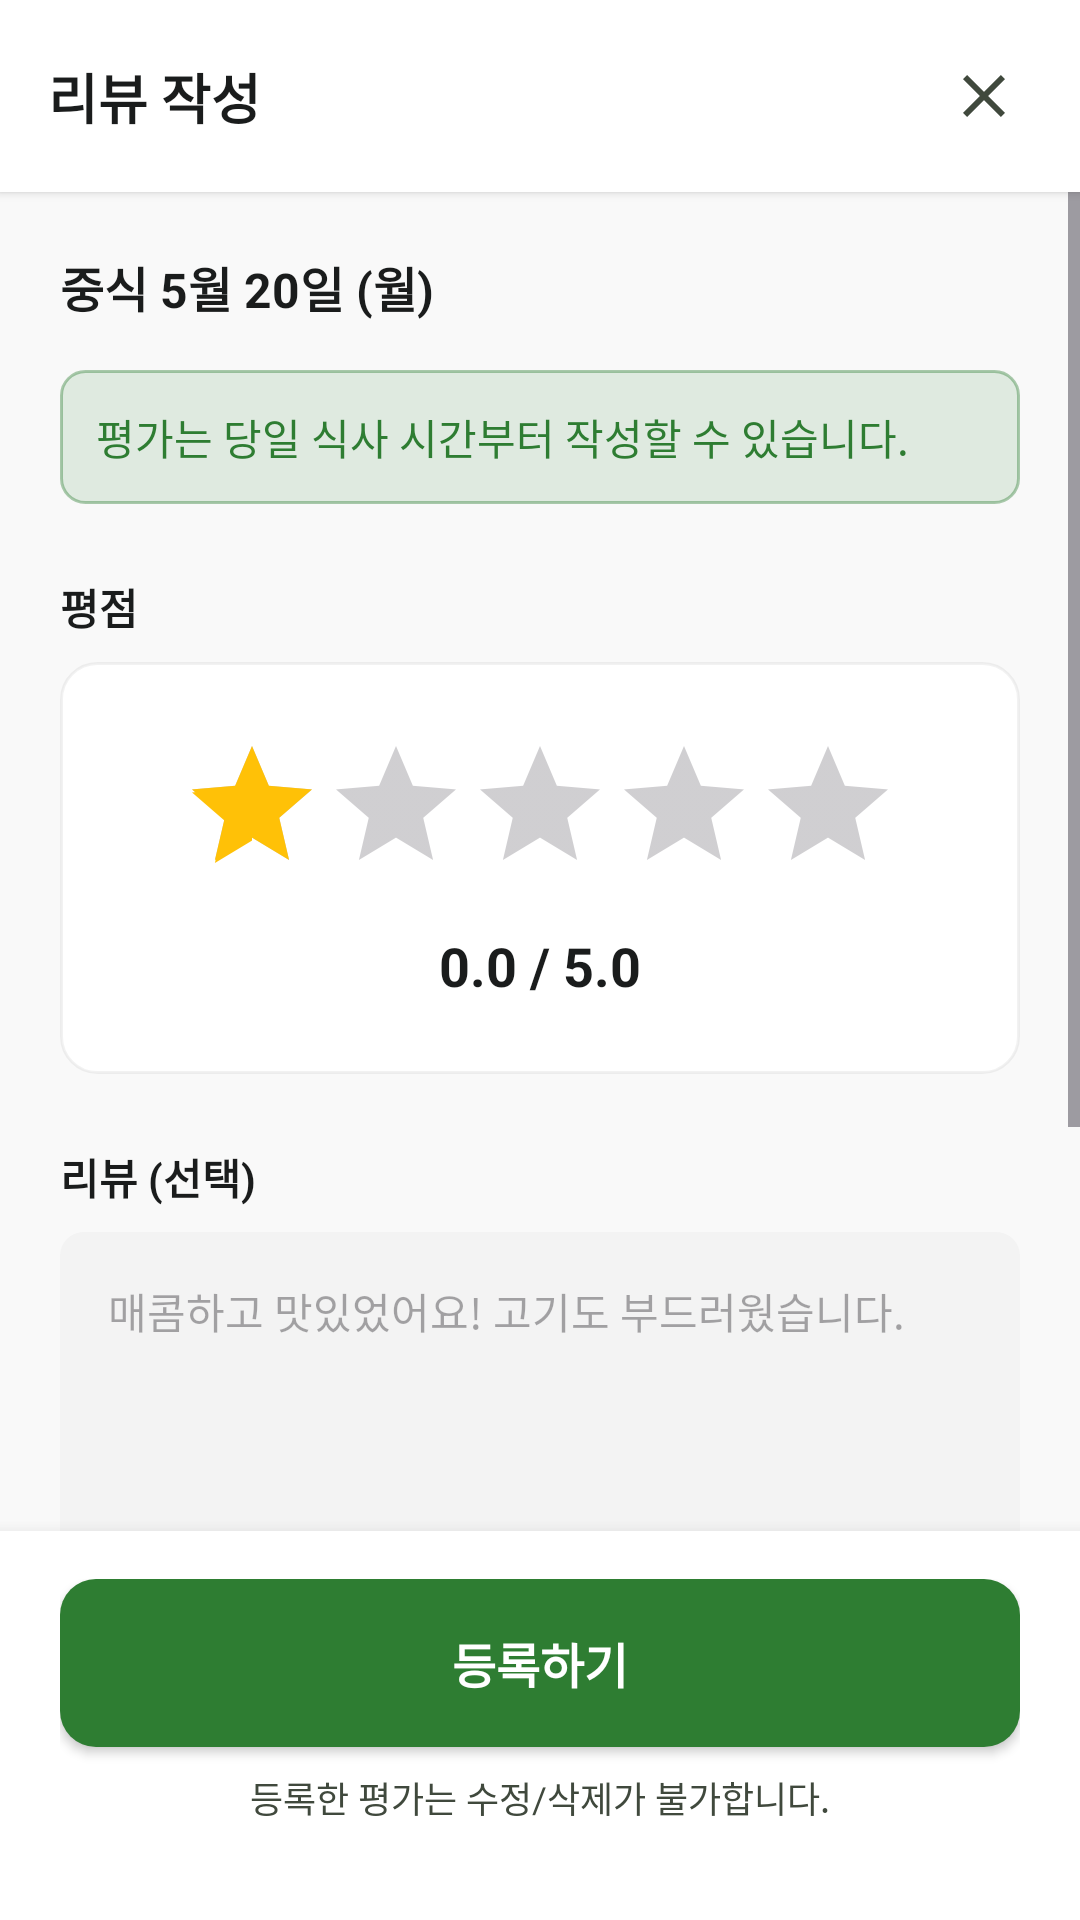

Locate icon controls on the screen. Image size 1080x1920, boxes as (x1, y1, x2, y2).
close: (963, 75, 1005, 117)
